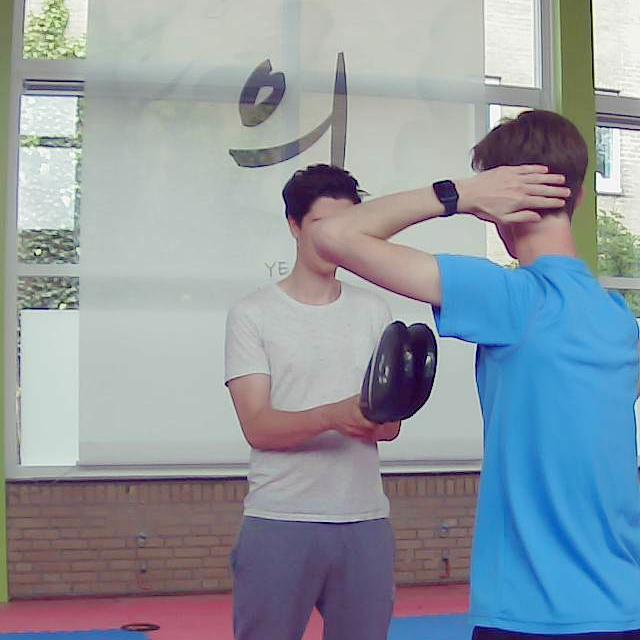paddle: (359, 323, 441, 425)
